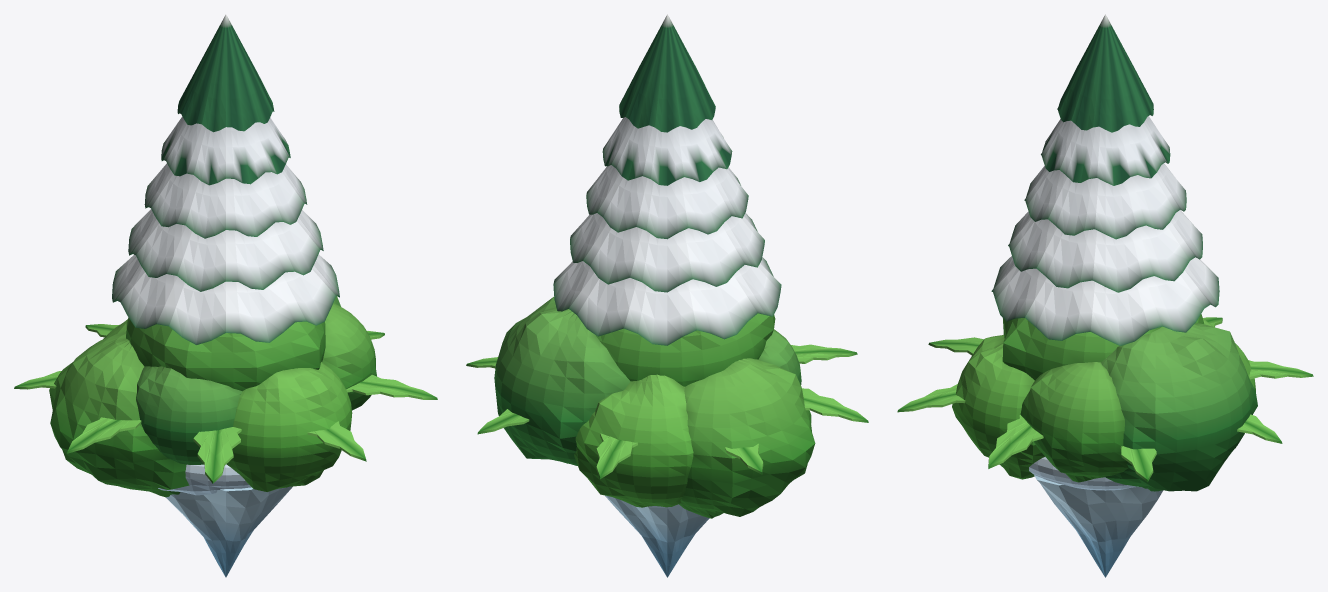
File: rasmus.glb
3 renders of one model, left to right at view 1: azimuth 30°, elevation 25°; view 2: azimuth 150°, elevation 25°; view 3: azimuth 270°, elevation 25°, orthographic.
Visible parts, largest first — view 1: granlag0, løv3, løv1, granlag1, løv0, granlag2, løv2, granlag4, granlag3, isspids, løv6, palmeblad5 (+4 smaller); view 2: løv3, løv5, granlag0, løv4, granlag1, granlag2, løv0, granlag4, granlag3, isspids, løv2, palmeblad2 (+4 smaller); view 3: løv5, granlag0, granlag1, løv6, granlag2, løv1, granlag4, granlag3, isspids, løv0, palmeblad7, isklump (+5 smaller).
Part boxes in pixels (x1,y1,x2,y2): granlag0: (112, 254, 339, 344); løv3: (49, 331, 189, 497); løv1: (226, 361, 352, 491); granlag1: (128, 209, 323, 291); løv0: (126, 317, 325, 391); granlag2: (144, 163, 307, 238); løv2: (136, 366, 242, 464); granlag4: (177, 14, 274, 132); granlag3: (161, 116, 290, 185); isspids: (166, 486, 292, 577); løv6: (322, 303, 376, 410); palmeblad5: (193, 427, 241, 483); løv3: (679, 358, 815, 518); løv5: (494, 296, 630, 465); granlag0: (553, 257, 781, 345); løv4: (574, 374, 693, 507); granlag1: (570, 213, 764, 292); granlag2: (586, 165, 748, 239); løv0: (595, 313, 775, 386); granlag4: (619, 14, 715, 132); granlag3: (602, 117, 732, 185); isspids: (605, 495, 709, 577); løv2: (758, 329, 801, 384); palmeblad2: (596, 433, 637, 479); løv5: (1101, 323, 1257, 491); granlag0: (991, 256, 1219, 345); granlag1: (1008, 210, 1202, 292); løv6: (1020, 362, 1128, 482); granlag2: (1024, 163, 1186, 239); løv1: (952, 334, 1044, 479); granlag4: (1057, 14, 1153, 132); granlag3: (1041, 116, 1170, 185); isspids: (1034, 475, 1163, 577); løv0: (1002, 314, 1204, 380); palmeblad7: (988, 415, 1043, 468); isklump: (1029, 457, 1136, 490).
Size of the model in its own units: 9.49 by 14.18 by 9.49.
